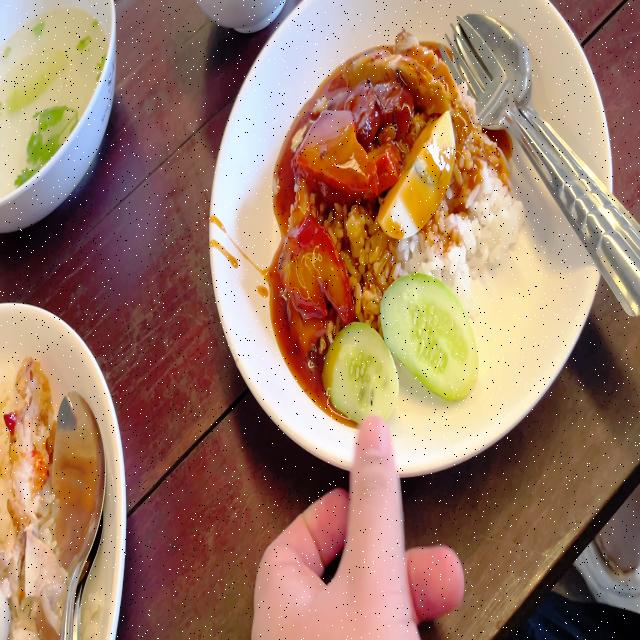boiled_chicken: (0, 529, 67, 640)
boiled_egg: (377, 110, 453, 238)
chicken_rice: (0, 347, 87, 640)
cucumber: (379, 273, 474, 399), (328, 319, 397, 425)
fried_chicken: (9, 356, 46, 526)
red_pork: (296, 107, 399, 189), (278, 220, 343, 345)
red_pork_and_crispy_pork: (276, 33, 517, 416)
